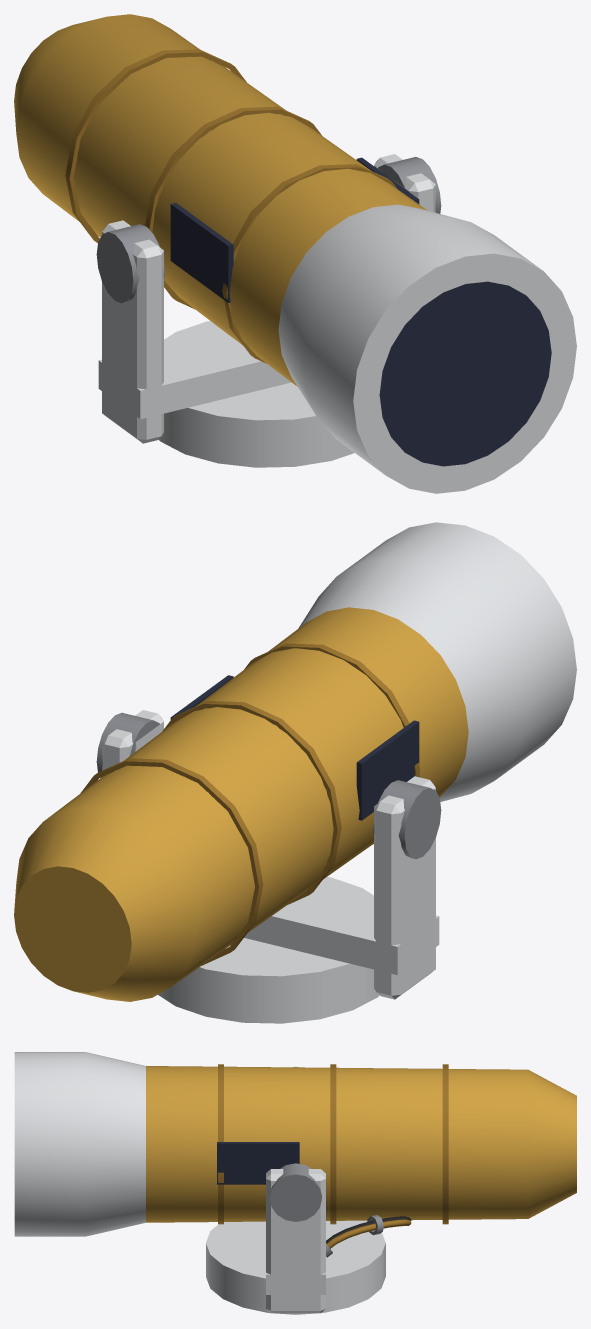
File: sm1_optics.obj
3 renders of one model, top to bottom at view 1: azimuth 30°, elevation 25°; view 2: azimuth 150°, elevation 25°; view 3: azimuth 270°, elevation 25°, orthographic. The views are drawn at different scales.
Visible parts, largest first — view 1: sm1_optics; view 2: sm1_optics; view 3: sm1_optics.
Part boxes in pixels (x1,y1,x2,y2): sm1_optics: (14,14,576,493); sm1_optics: (14,522,576,1023); sm1_optics: (14,1052,576,1314).
Bounding box in the file's own units: 0.68 × 0.637 × 1.5.
